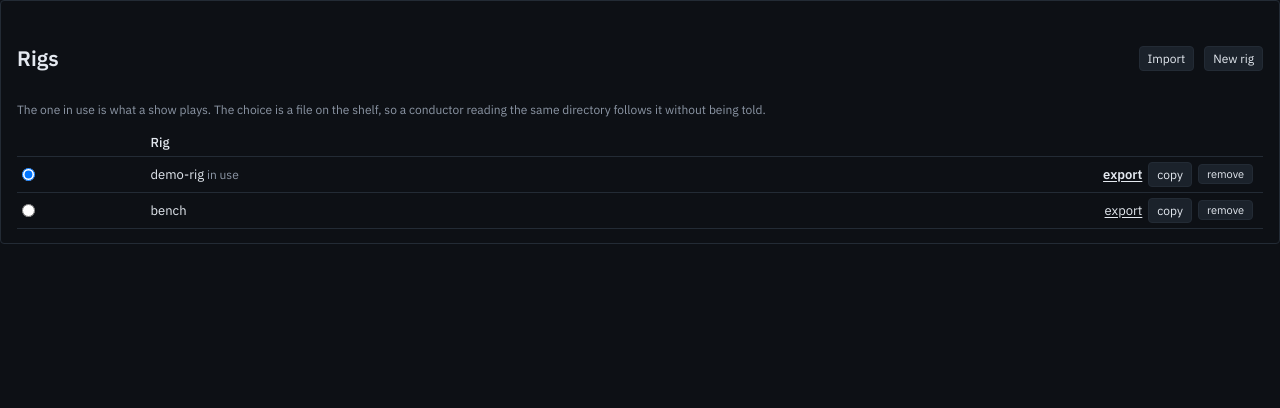
the shelf › says why a refusal happened rather than failing quietly
Expected: the text "bench" is shown, 151,193 -> 574,229
Click the button "New rig": (1234, 58) 1204,46 -> 1263,71
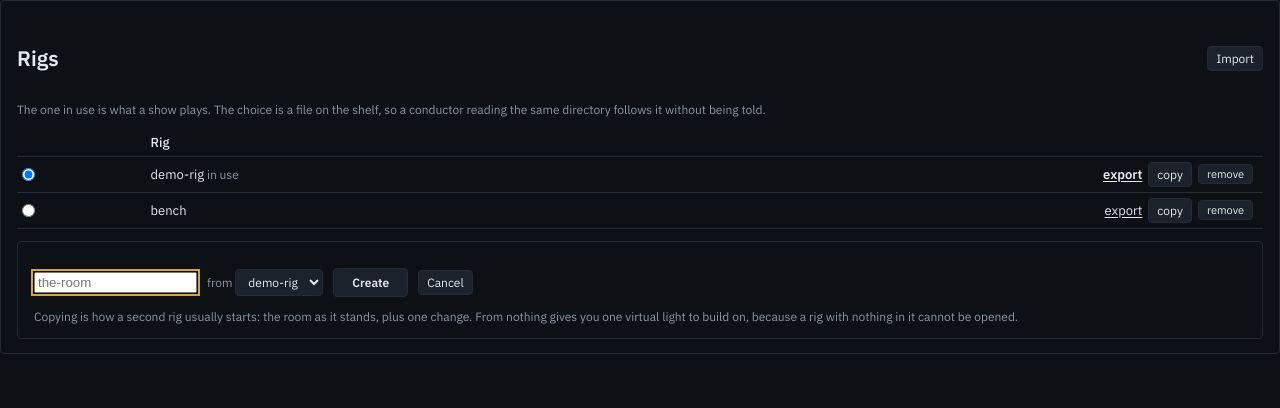
In the field named "New rig name": (116, 283) 34,272 -> 197,293, type "bench"
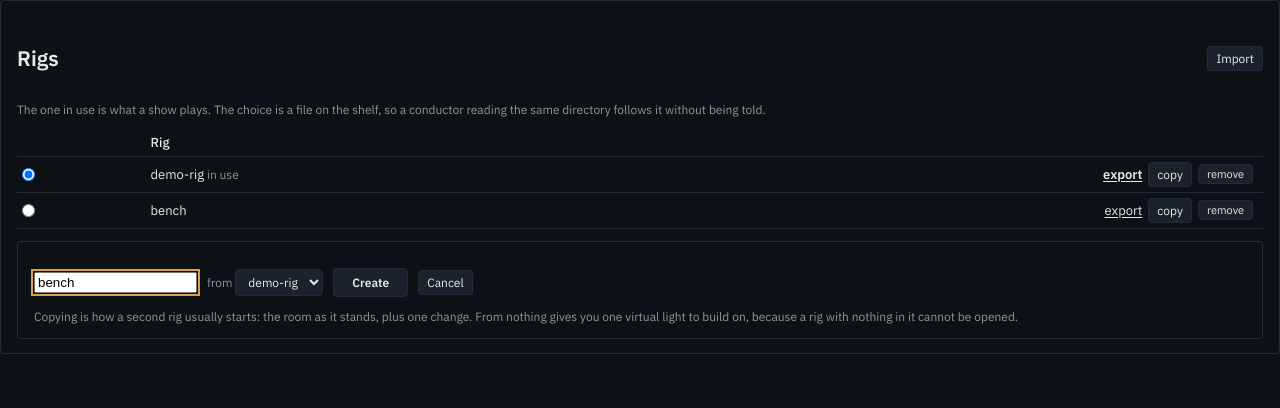
Click the button "Create": (371, 283) 333,268 -> 408,297
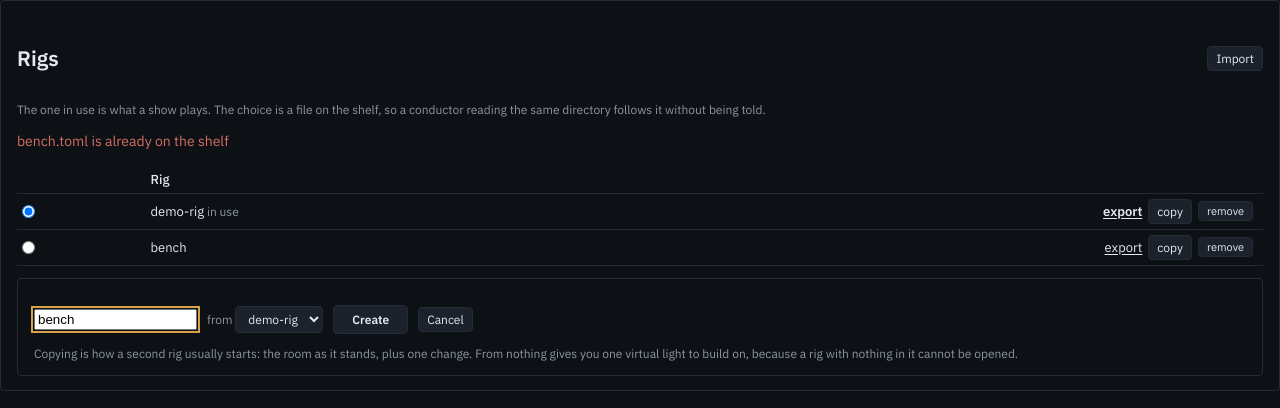
Expected: the text "bench.toml is already on the shelf" is shown, 17,132 -> 229,150
